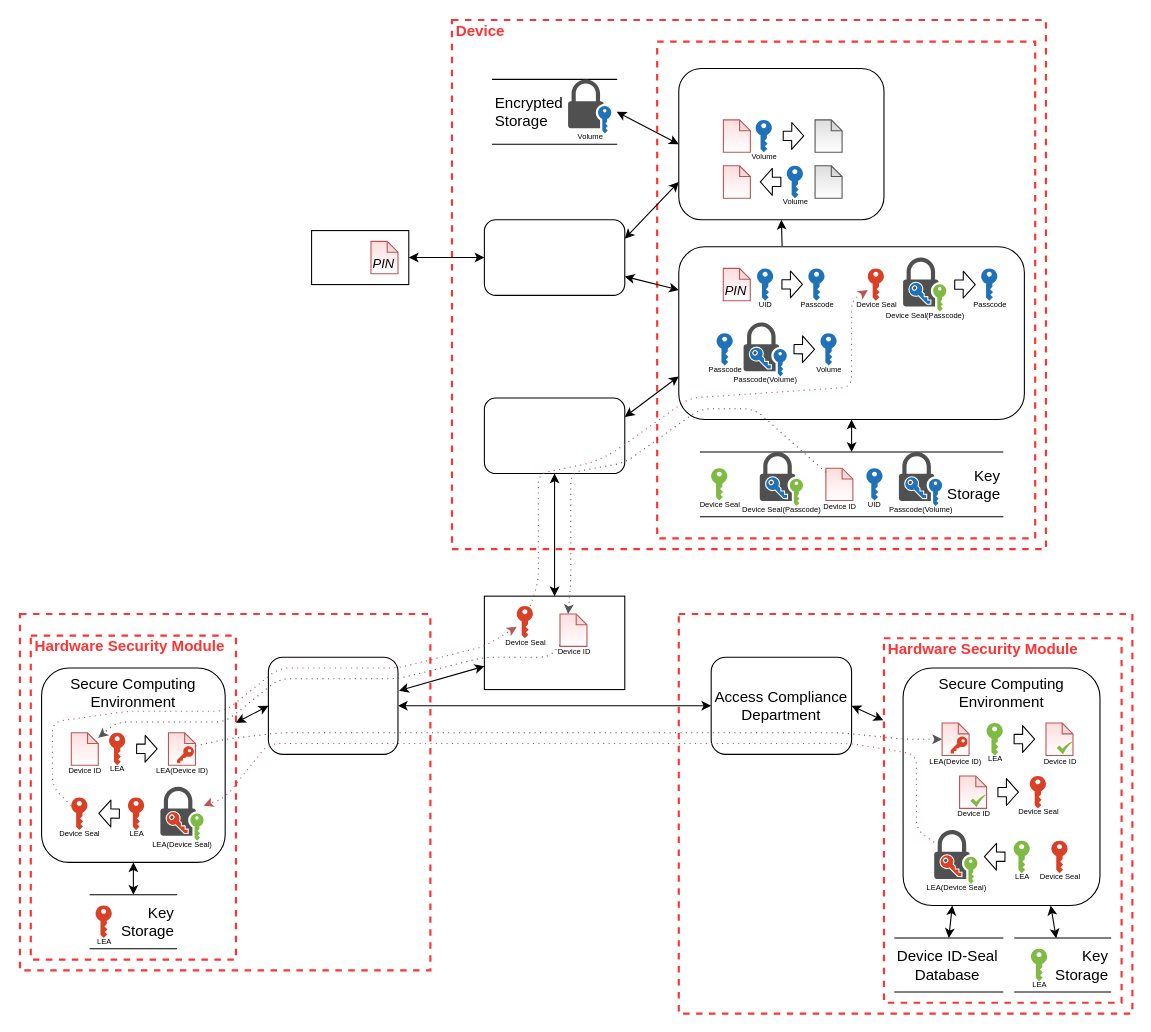
This 1151x1032 diagram has some shape labels left out. The box of each missing label's shape, as (x1, y1, x2, y2) in pixels:
Alice: (310, 230, 409, 285)
Digital Forensics Department: (267, 656, 398, 754)
Encryption Module: (678, 68, 884, 220)
Grace: (483, 595, 625, 690)
Law Enforcement Agency: (18, 612, 431, 971)
Operating System: (483, 219, 625, 295)
Secure Enclave: (656, 40, 1036, 539)
Secure Processor: (678, 246, 1024, 420)
Unexposed Hardware Interface: (483, 397, 625, 474)
Vendor: (677, 612, 1133, 1014)
